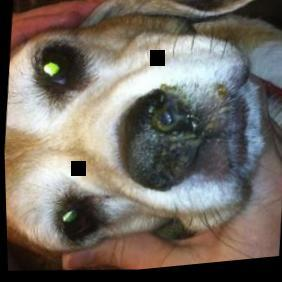nasal_discharge: (137, 80, 207, 153)
